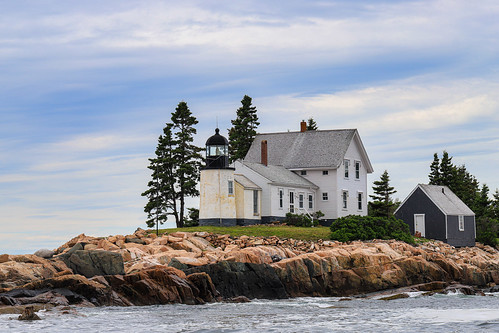building: (209, 125, 367, 236), (398, 187, 477, 257)
rocks: (9, 239, 489, 306)
sea: (1, 287, 487, 333)
sky: (14, 1, 499, 230)
tree: (137, 99, 203, 232)
